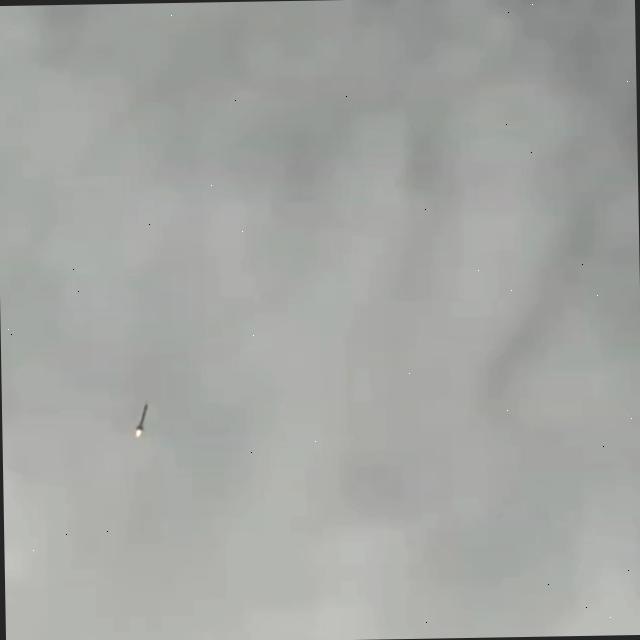rocket: (126, 402, 148, 437)
